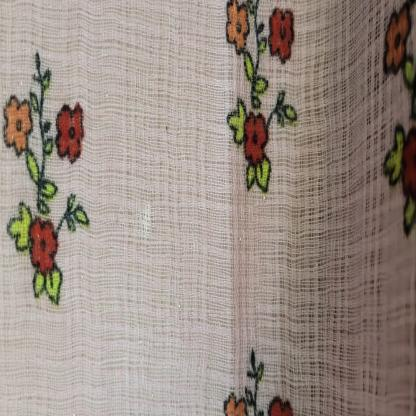spot: (137, 199, 155, 238)
